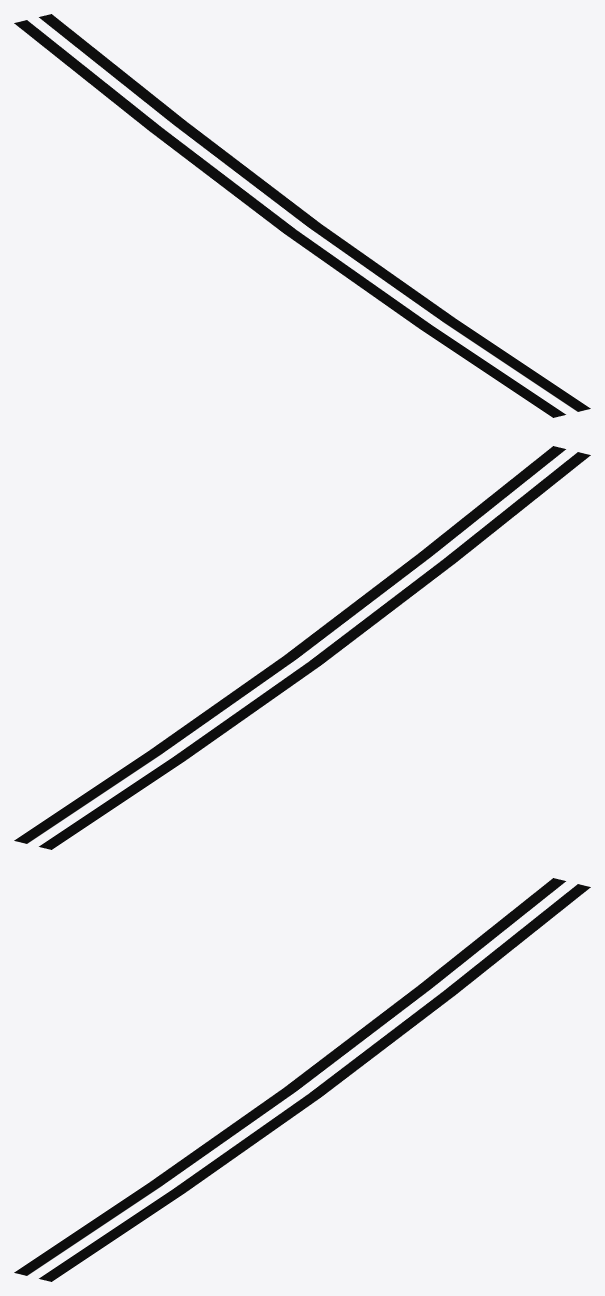
Rendered from Power_cable.fbx.
The picture shows the model from 3 angles, top to bottom: view 1: azimuth 30°, elevation 25°; view 2: azimuth 150°, elevation 25°; view 3: azimuth 330°, elevation 25°; orthographic projection.
Parts seen in each view (by area): view 1: polySurface454; view 2: polySurface454; view 3: polySurface454.
Part boxes in pixels (x1,y1,x2,y2): polySurface454: (14, 14, 590, 417); polySurface454: (14, 446, 590, 849); polySurface454: (14, 878, 590, 1281).
Bounding box in the file's own units: 1.91 × 0.6151 × 47.45.
Materials: 1 (1 with a texture image).
